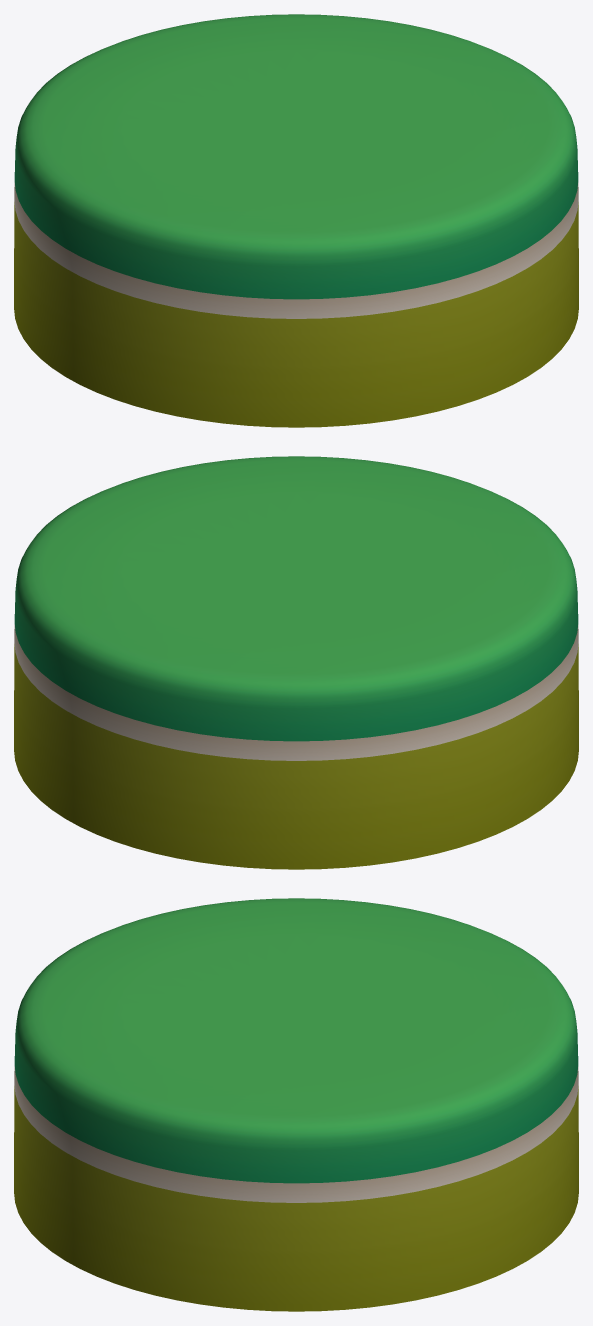
File: cake03.FBX
The picture shows the model from 3 angles, top to bottom: view 1: azimuth 30°, elevation 25°; view 2: azimuth 150°, elevation 25°; view 3: azimuth 270°, elevation 25°; orthographic projection.
Parts seen in each view (by area): view 1: cake03; view 2: cake03; view 3: cake03.
Part boxes in pixels (x1,y1,x2,y2): cake03: (14, 14, 578, 427); cake03: (14, 456, 578, 869); cake03: (14, 898, 578, 1311).
Bounding box in the file's own units: 0.0193 × 0.00693 × 0.0193.
